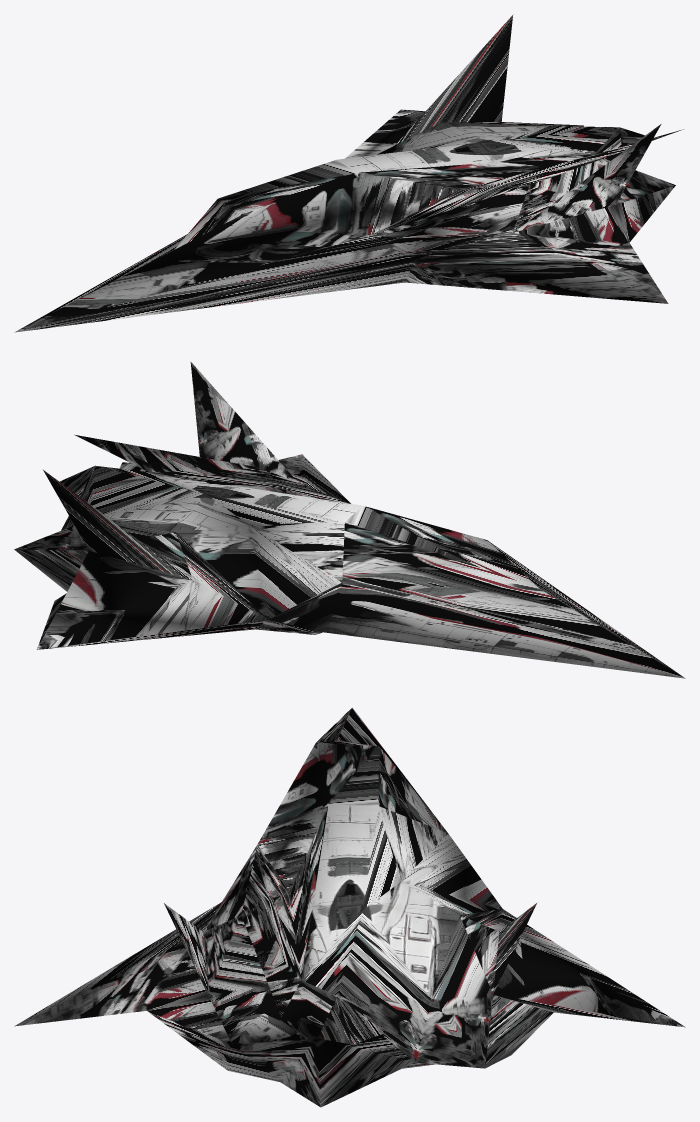
File: spaceship_fighter_simplify1.glb
3 views of the same model, one above another, from view 1: azimuth 30°, elevation 25°; view 2: azimuth 150°, elevation 25°; view 3: azimuth 270°, elevation 25° (orthographic). The views are drawn at different scales.
Visible parts, largest first — view 1: Mesh1.0_Material.001_0; view 2: Mesh1.0_Material.001_0; view 3: Mesh1.0_Material.001_0.
Part boxes in pixels (x1=…): Mesh1.0_Material.001_0: x1=14, y1=14, x2=684, y2=332; Mesh1.0_Material.001_0: x1=14, y1=362, x2=685, y2=678; Mesh1.0_Material.001_0: x1=14, y1=707, x2=685, y2=1107.
Bounding box in the file's own units: 1.91 × 0.4286 × 1.37.
Materials: 1 (1 with a texture image).
